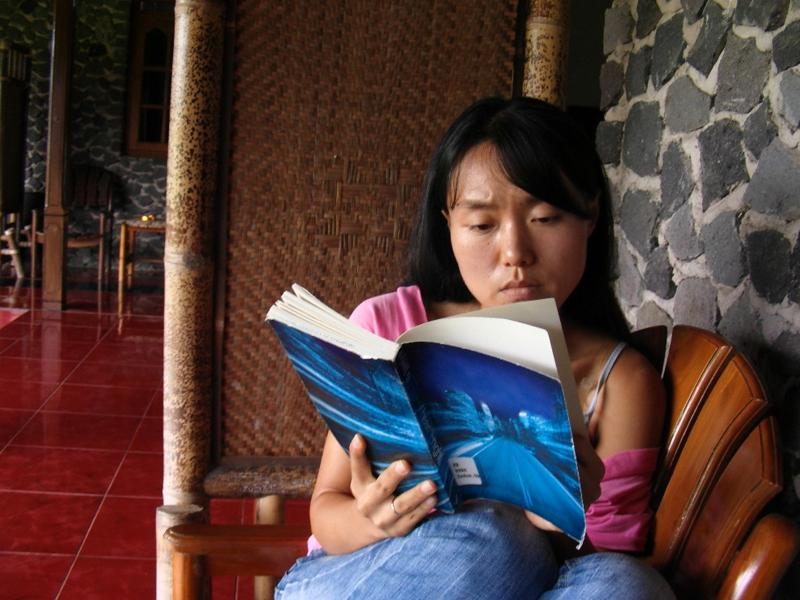person: (274, 94, 681, 600)
